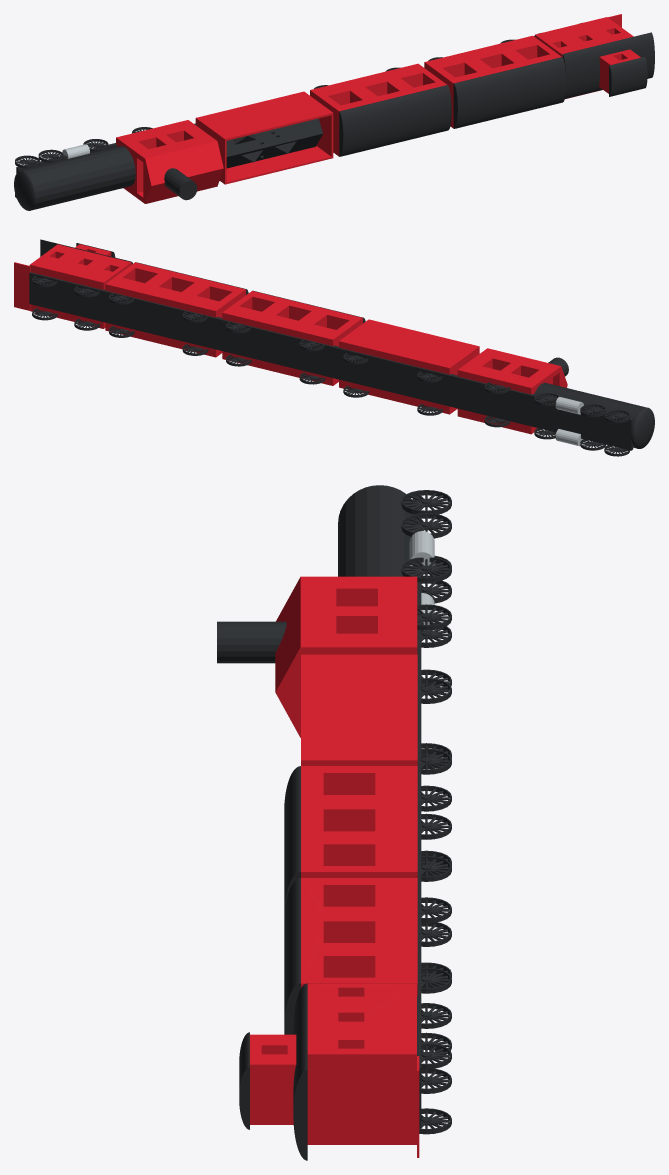
Rendered from tinker.obj.
3 views of the same model, one above another, from view 1: azimuth 30°, elevation 25°; view 2: azimuth 150°, elevation 25°; view 3: azimuth 270°, elevation 25° (orthographic). The views are drawn at different scales.
Visible parts, largest first — view 1: group_0_2829873, group_0_15277357; view 2: group_0_2829873, group_0_15277357, group_0_12568524; view 3: group_0_15277357, group_0_2829873.
Boxes of the visible parts, box(x1,y1,x2,y2) form: group_0_2829873: box(14, 22, 654, 210); group_0_15277357: box(116, 14, 640, 203); group_0_2829873: box(29, 239, 654, 456); group_0_15277357: box(14, 244, 567, 434); group_0_12568524: box(555, 397, 583, 446); group_0_15277357: box(250, 576, 419, 1157); group_0_2829873: box(217, 485, 451, 1160).
Bounding box in the file's own units: 170 × 12.32 × 28.15.
